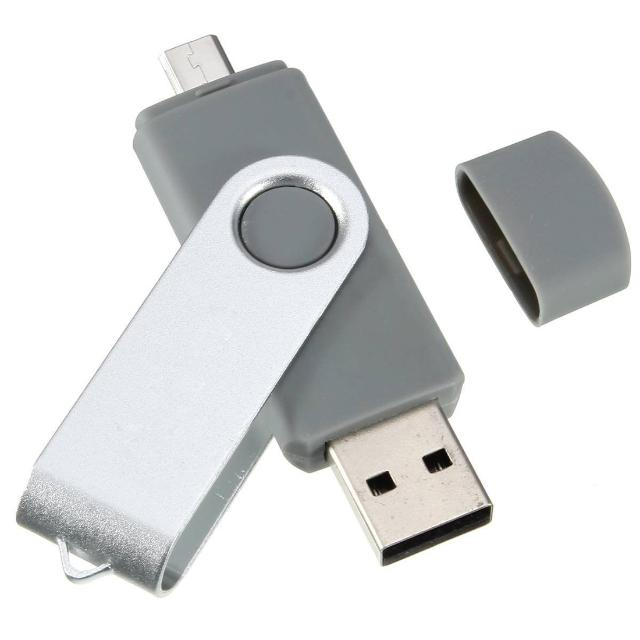USB-Flash-Drive: (32, 24, 500, 618)
